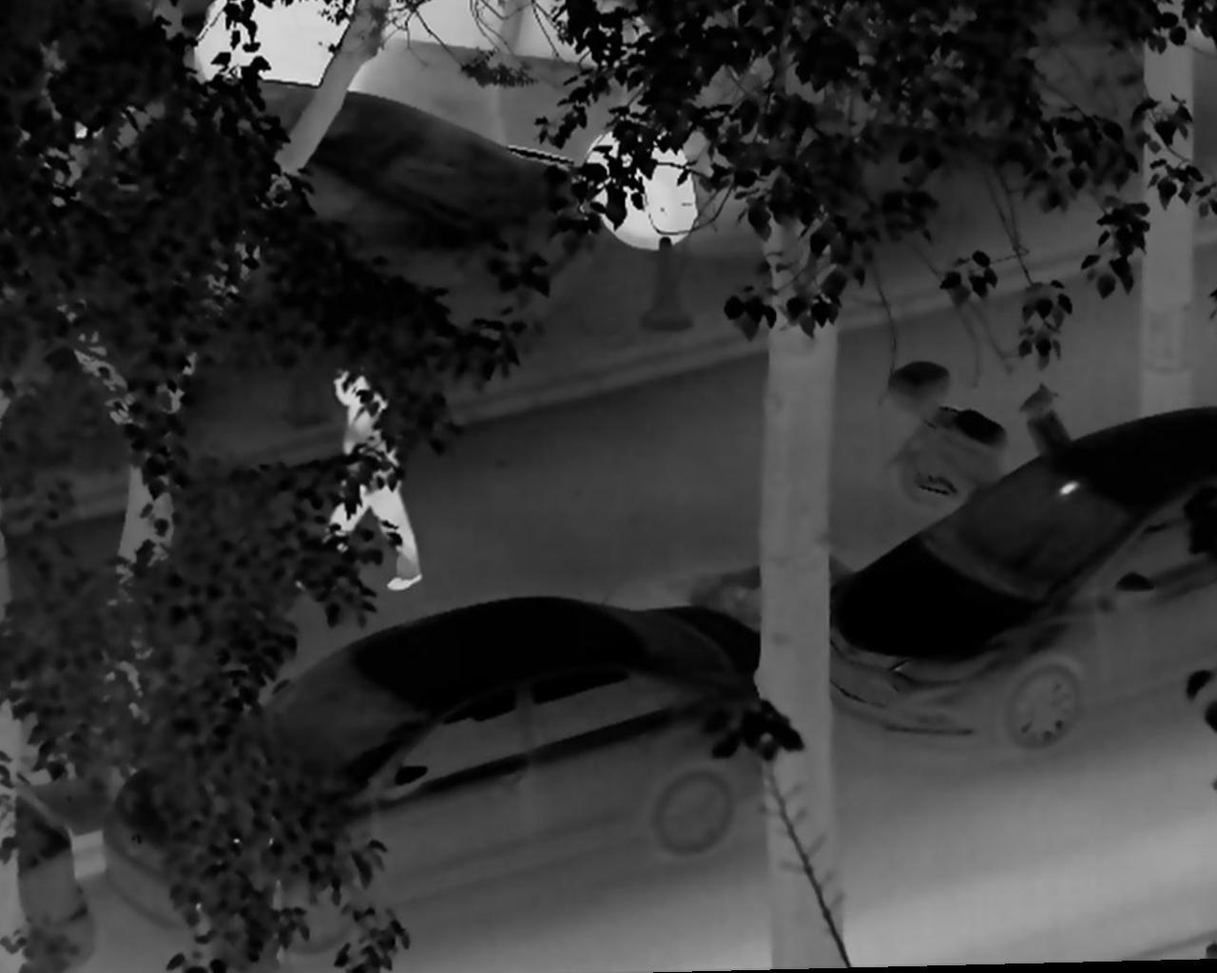person: (295, 361, 424, 597)
